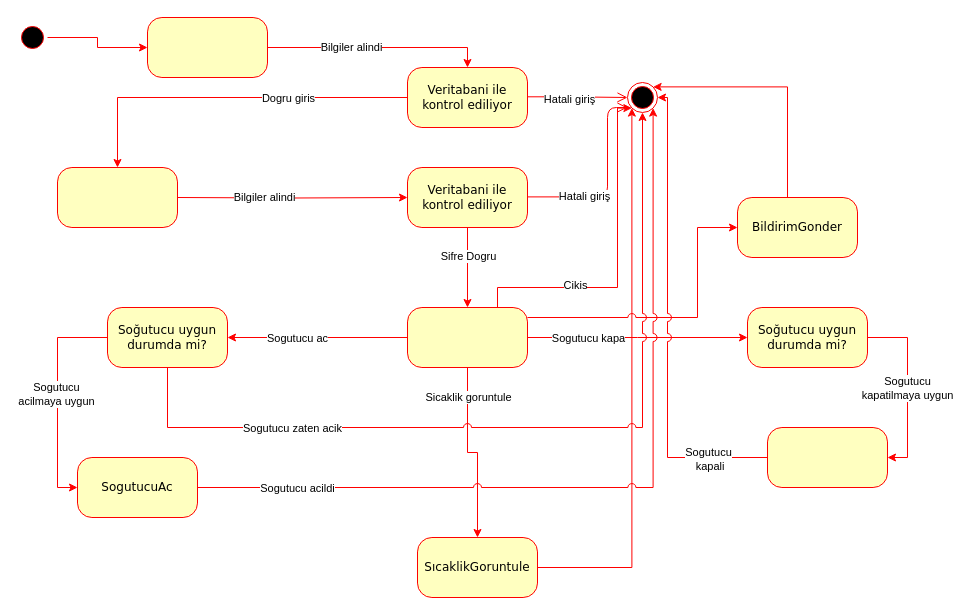
Some shapes in this 970 by 615 pixel diagram are drawn without their labels. The box of each missing label's shape, as (x1, y1, x2, y2) in pixels:
İşlem Seç: (406, 306, 528, 368)
Kullanici adi girilir: (146, 16, 268, 78)
Sifre girilir: (56, 166, 178, 228)
SogutucuKapa: (766, 426, 888, 488)
